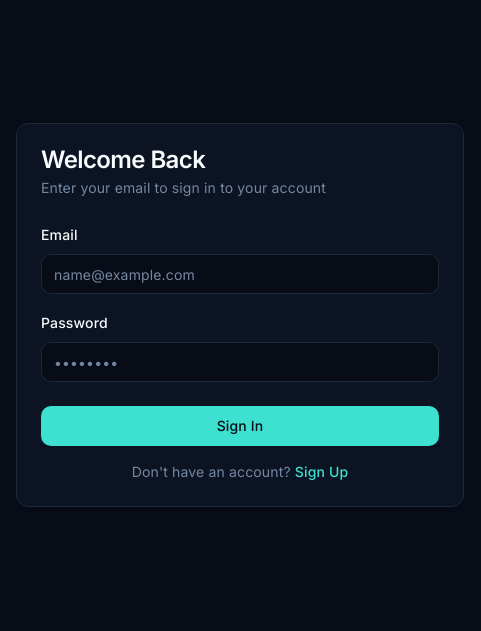
Scenario: Auth Component › Rendering › should toggle back to sign in form
Note: Go to sign up
Click the button "Sign Up" at {"x": 322, "y": 472}, box [295,462,348,482]
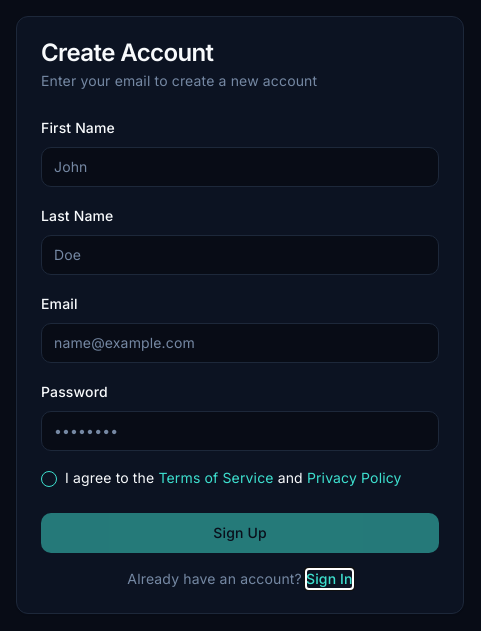
Result: the heading "Create Account" is shown at [41,38,214,67]
Note: Go back to sign in
Click the button "Sign In" at {"x": 329, "y": 579}, box [306,569,353,589]
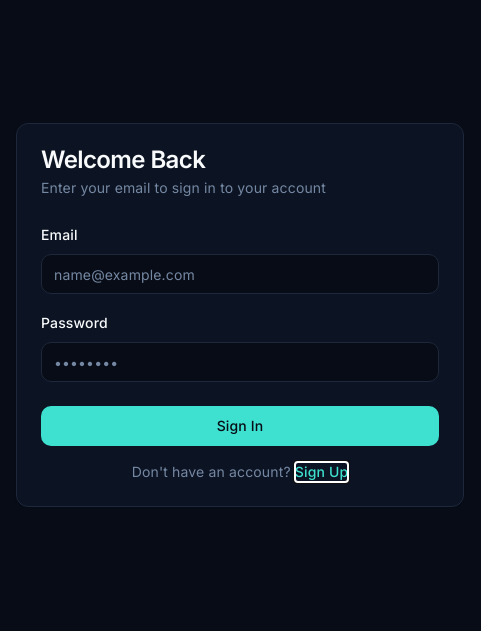
Result: the heading "Welcome Back" is shown at [41,145,205,174]
